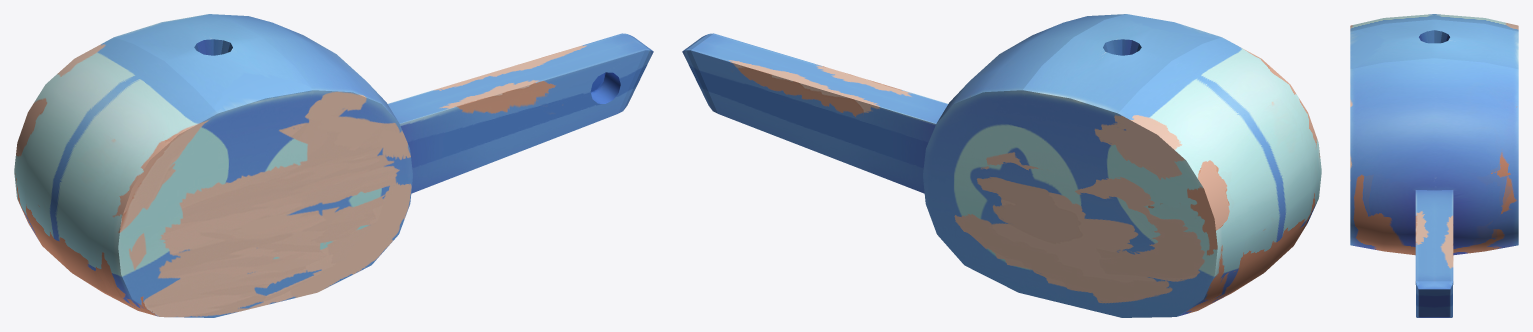
Rendered from zhishengji01.FBX.
The picture shows the model from 3 angles, left to right: view 1: azimuth 30°, elevation 25°; view 2: azimuth 150°, elevation 25°; view 3: azimuth 270°, elevation 25°; orthographic projection. The views are drawn at different scales.
Visible parts, largest first — view 1: zhishengji01; view 2: zhishengji01; view 3: zhishengji01.
Boxes of the visible parts, x1,y1,x2,y2 form: zhishengji01: [14, 14, 653, 317]; zhishengji01: [682, 14, 1321, 317]; zhishengji01: [1350, 14, 1518, 317].
Bounding box in the file's own units: 84.46 × 32.16 × 25.75.
